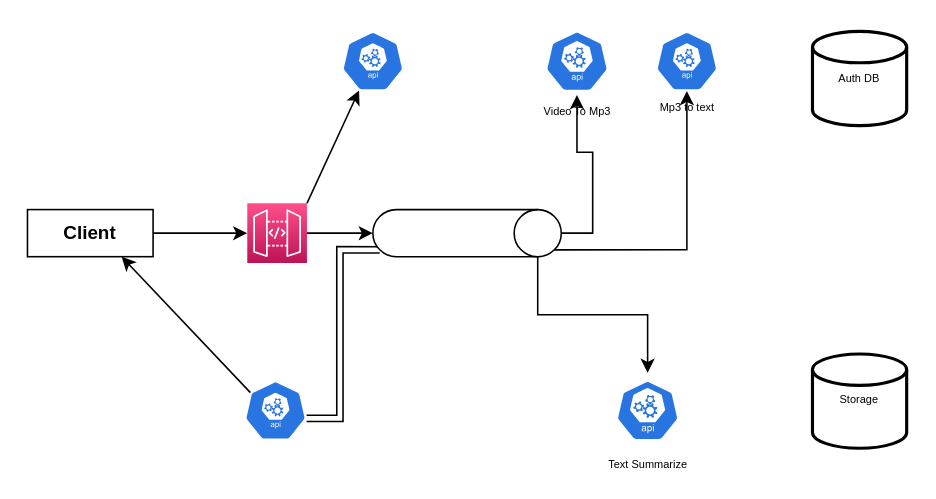
Some shapes in this 936 by 499 pixel diagram are drawn without their labels. Here are the shapes that lost their labels. From the top down, the centre of each, then its label:
At point 372,60: "Auth".
At point 466,232: "queue(Kafka)".
At point 275,409: "Notification Service".
